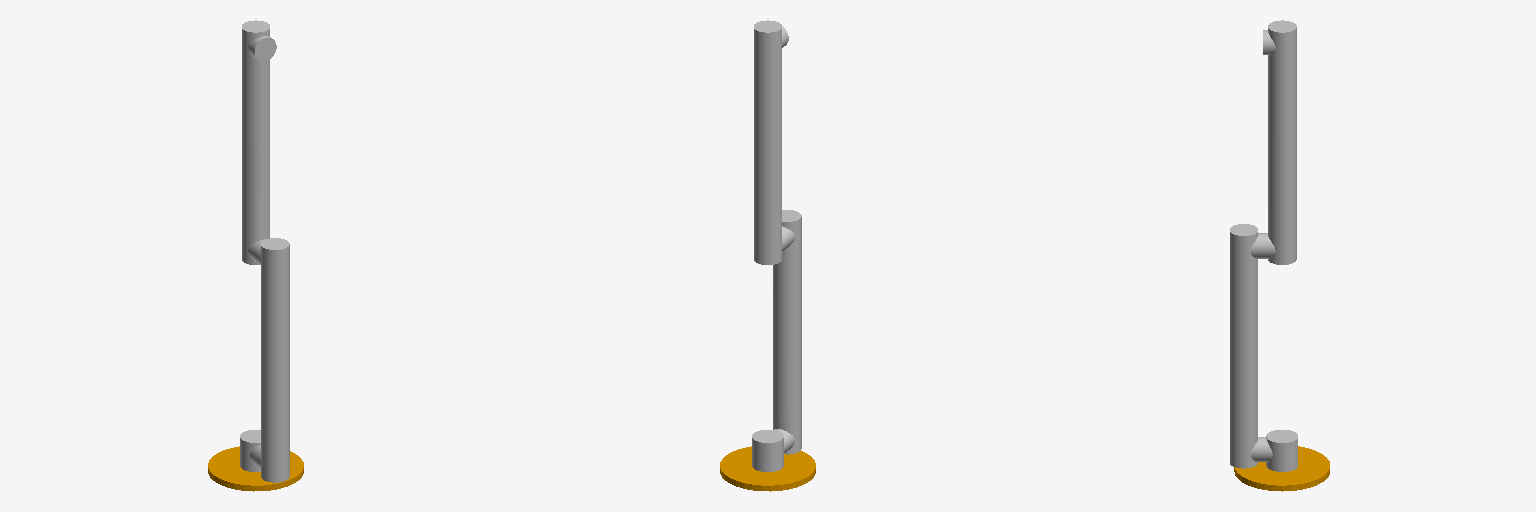
The robot description file, URDF, robot "robot_5r":
<?xml version="1.0" ?>
<robot name="robot_5r">
  <!--Generated by the ROS Workbench for FreeCAD (https://github.com/galou/freecad.workbench_ros)-->
  <link name="base_link">
    <visual>
      <origin rpy="0.0 -0.0 0.0" xyz="0.0 0.0 0.01"/>
      <geometry>
        <cylinder length="0.02" radius="0.15"/>
      </geometry>
    </visual>
    <visual>
      <!--Body-->
      <origin rpy="0.0 -0.0 0.0" xyz="0.0 0.0 0.0"/>
      <geometry>
        <mesh filename="package://robots_description/meshes/Body.dae"/>
      </geometry>
    </visual>
    <collision>
      <origin rpy="0.0 -0.0 0.0" xyz="0.0 0.0 0.01"/>
      <geometry>
        <cylinder length="0.02" radius="0.15"/>
      </geometry>
    </collision>
    <collision>
      <!--Body-->
      <origin rpy="0.0 -0.0 0.0" xyz="0.0 0.0 0.0"/>
      <geometry>
        <mesh filename="package://robots_description/meshes/Body.dae"/>
      </geometry>
    </collision>
  </link>
  <link name="shoulder">
    <visual>
      <!--Body001-->
      <origin rpy="0.0 -0.0 0.0" xyz="0.0 0.0 0.0"/>
      <geometry>
        <mesh filename="package://robots_description/meshes/Body001.dae"/>
      </geometry>
    </visual>
    <collision>
      <!--Body001-->
      <origin rpy="0.0 -0.0 0.0" xyz="0.0 0.0 0.0"/>
      <geometry>
        <mesh filename="package://robots_description/meshes/Body001.dae"/>
      </geometry>
    </collision>
  </link>
  <link name="arm">
    <visual>
      <!--Body002-->
      <origin rpy="-1.570796326794897 -0.0 0.0" xyz="0.0 -0.045 0.06"/>
      <geometry>
        <mesh filename="package://robots_description/meshes/Body002.dae"/>
      </geometry>
    </visual>
    <collision>
      <!--Body002-->
      <origin rpy="-1.570796326794897 -0.0 0.0" xyz="0.0 -0.045 0.06"/>
      <geometry>
        <mesh filename="package://robots_description/meshes/Body002.dae"/>
      </geometry>
    </collision>
  </link>
  <link name="forearm">
    <visual>
      <!--Body002-->
      <origin rpy="-1.570796326794897 -0.0 3.141592653589793" xyz="0.0 0.045 0.06"/>
      <geometry>
        <mesh filename="package://robots_description/meshes/Body002.dae"/>
      </geometry>
    </visual>
    <collision>
      <!--Body002-->
      <origin rpy="-1.570796326794897 -0.0 3.141592653589793" xyz="0.0 0.045 0.06"/>
      <geometry>
        <mesh filename="package://robots_description/meshes/Body002.dae"/>
      </geometry>
    </collision>
  </link>
  <link name="hand">
    <visual>
      <!--Body003-->
      <origin rpy="0.0 -0.0 0.0" xyz="0.0 0.0 0.0"/>
      <geometry>
        <mesh filename="package://robots_description/meshes/Body003.dae"/>
      </geometry>
    </visual>
    <collision>
      <!--Body003-->
      <origin rpy="0.0 -0.0 0.0" xyz="0.0 0.0 0.0"/>
      <geometry>
        <mesh filename="package://robots_description/meshes/Body003.dae"/>
      </geometry>
    </collision>
  </link>
  <joint name="base-shoulder" type="revolute">
    <parent link="base_link"/>
    <child link="shoulder"/>
    <origin rpy="0.0 -0.0 0.0" xyz="0.0 0.0 0.02"/>
    <axis xyz="0 0 1"/>
    <limit effort="0.0" lower="0.0" upper="0.0" velocity="0.0"/>
  </joint>
  <joint name="shoulder-arm" type="revolute">
    <parent link="shoulder"/>
    <child link="arm"/>
    <origin rpy="1.5707963267948966 -0.0 0.0" xyz="0.0 -0.06 0.055"/>
    <axis xyz="0 0 1"/>
    <limit effort="0.0" lower="0.0" upper="0.0" velocity="0.0"/>
  </joint>
  <joint name="arm-forearm" type="revolute">
    <parent link="arm"/>
    <child link="forearm"/>
    <origin rpy="3.141592653589793 -0.0 0.0" xyz="0.0 0.7 0.0"/>
    <axis xyz="0 0 1"/>
    <limit effort="0.0" lower="0.0" upper="0.0" velocity="0.0"/>
  </joint>
  <joint name="forearm-hand" type="revolute">
    <parent link="forearm"/>
    <child link="hand"/>
    <origin rpy="3.141592653589793 1.224646799147353e-16 3.141592653589793" xyz="0.0 -0.7 0.0"/>
    <axis xyz="0 0 1"/>
    <limit effort="0.0" lower="0.0" upper="0.0" velocity="0.0"/>
  </joint>
</robot>

--- Facts derived from the render (not from the file) ---
3 views of the same robot in one strip: view 1: azimuth 30°, elevation 25°; view 2: azimuth 150°, elevation 25°; view 3: azimuth 270°, elevation 25° (orthographic).
Robot: robot_5r — 5 links, 4 joints (4 revolute); root link base_link; default pose: all joints at 0.
Visible links, largest first — view 1: arm, forearm, base_link, shoulder; view 2: forearm, arm, base_link, shoulder; view 3: forearm, arm, base_link, shoulder.
Link boxes in pixels (box(x1,y1,x2,y2)): arm: box(255, 238, 289, 482); forearm: box(242, 20, 276, 264); base_link: box(208, 446, 303, 491); shoulder: box(240, 430, 260, 471); forearm: box(754, 20, 788, 264); arm: box(773, 210, 801, 454); base_link: box(720, 446, 815, 491); shoulder: box(752, 430, 788, 471); forearm: box(1263, 20, 1296, 264); arm: box(1230, 224, 1262, 468); base_link: box(1234, 446, 1329, 491); shoulder: box(1263, 430, 1297, 471).
Size in the robot's own frame: 0.3 by 0.315 by 1.53 metres.
4 mesh visuals loaded from 4 distinct referenced files (3 Collada DAE); not drawn: 1 (file found but could not be loaded).